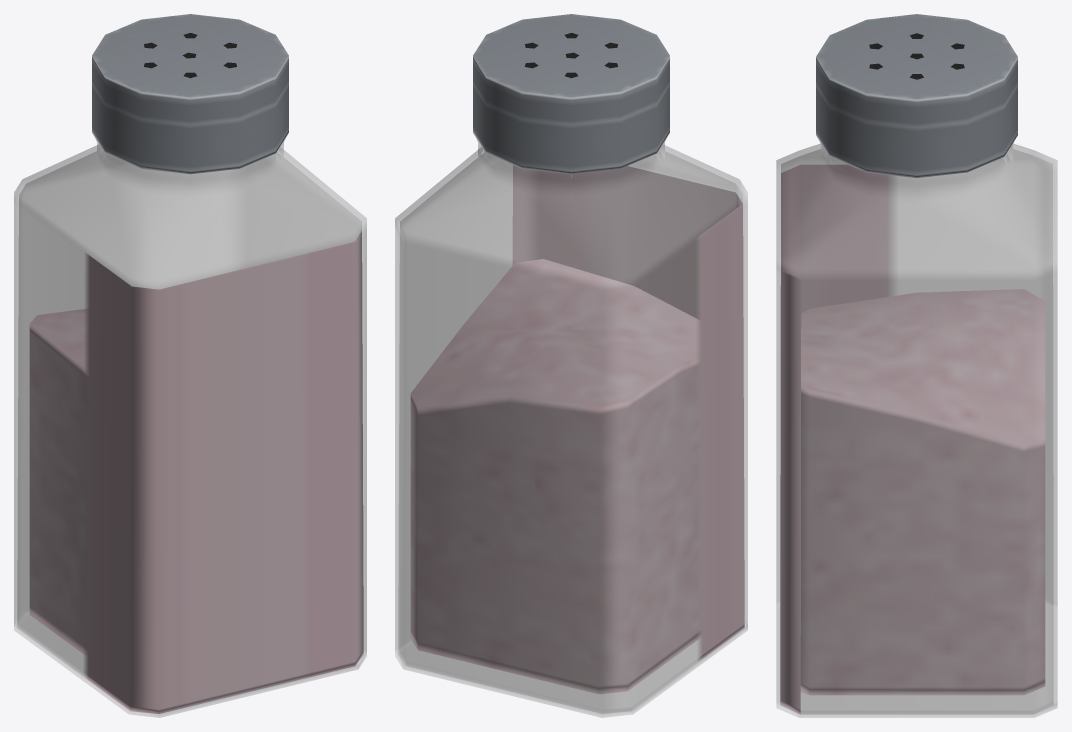
The model's file is pi_spice01.gltf.
3 views of the same model, side by side, from view 1: azimuth 30°, elevation 25°; view 2: azimuth 150°, elevation 25°; view 3: azimuth 270°, elevation 25° (orthographic). The views are drawn at different scales.
Parts seen in each view (by area): view 1: pi_spice01_02_shape:pi_spice01_body01_tra, pi_spice01_05_shape:pi_spice01_body01_tra, pi_spice01_01_shape:pi_spice01_body01, pi_spice01_03_shape:pi_spice01_body01; view 2: pi_spice01_02_shape:pi_spice01_body01_tra, pi_spice01_05_shape:pi_spice01_body01_tra, pi_spice01_03_shape:pi_spice01_body01, pi_spice01_01_shape:pi_spice01_body01; view 3: pi_spice01_02_shape:pi_spice01_body01_tra, pi_spice01_05_shape:pi_spice01_body01_tra, pi_spice01_03_shape:pi_spice01_body01, pi_spice01_01_shape:pi_spice01_body01, pi_spice01_04_shape:pi_spice01_body01.
Part boxes in pixels (x1,y1,x2,y2): pi_spice01_02_shape:pi_spice01_body01_tra: (14,140,366,717); pi_spice01_05_shape:pi_spice01_body01_tra: (17,150,363,713); pi_spice01_01_shape:pi_spice01_body01: (92,14,288,174); pi_spice01_03_shape:pi_spice01_body01: (29,309,87,655); pi_spice01_02_shape:pi_spice01_body01_tra: (395,140,747,717); pi_spice01_05_shape:pi_spice01_body01_tra: (398,150,744,713); pi_spice01_03_shape:pi_spice01_body01: (410,259,700,694); pi_spice01_01_shape:pi_spice01_body01: (473,14,669,174); pi_spice01_02_shape:pi_spice01_body01_tra: (776,143,1057,717); pi_spice01_05_shape:pi_spice01_body01_tra: (780,149,1053,714); pi_spice01_03_shape:pi_spice01_body01: (800,289,1045,695); pi_spice01_01_shape:pi_spice01_body01: (816,14,1017,177); pi_spice01_04_shape:pi_spice01_body01: (869,33,964,79).
Size of the model in its own units: 0.0411 by 0.097 by 0.0411.
Materials: 2 (2 with a texture image).
